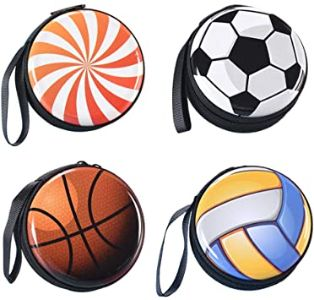baloncesto: (26, 167, 145, 287)
voleibol: (195, 166, 312, 281)
